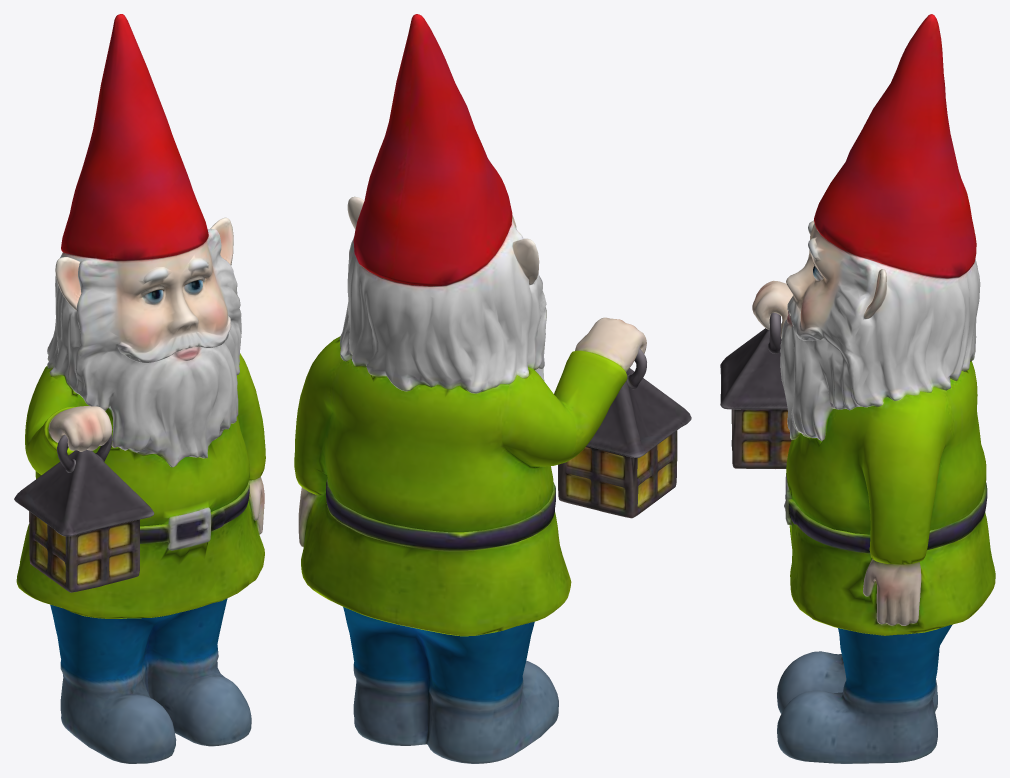
The model's file is garden_gnome.glb.
3 views of the same model, side by side, from view 1: azimuth 30°, elevation 25°; view 2: azimuth 150°, elevation 25°; view 3: azimuth 270°, elevation 25° (orthographic). The views are drawn at different scales.
Visible parts, largest first — view 1: garden_gnome; view 2: garden_gnome; view 3: garden_gnome.
Part boxes in pixels (x1,y1,x2,y2): garden_gnome: (14,14,265,763); garden_gnome: (294,14,691,763); garden_gnome: (720,14,995,763).
Size of the model in its own units: 0.2578 by 0.5991 by 0.2097.
Materials: 1 (1 with a texture image).
